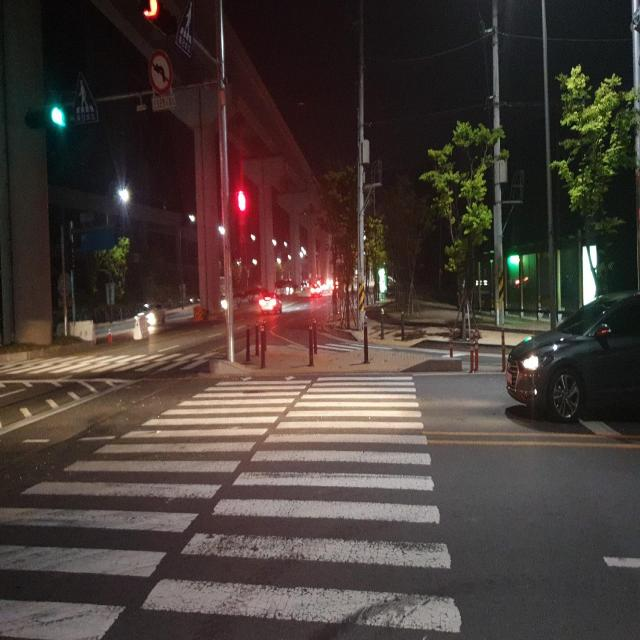빨간불: (232, 185, 250, 250)
횡단보도: (2, 370, 464, 640)
